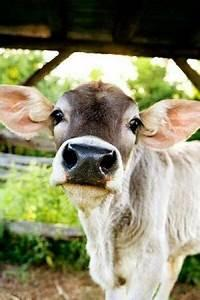cow: (0, 79, 199, 299)
